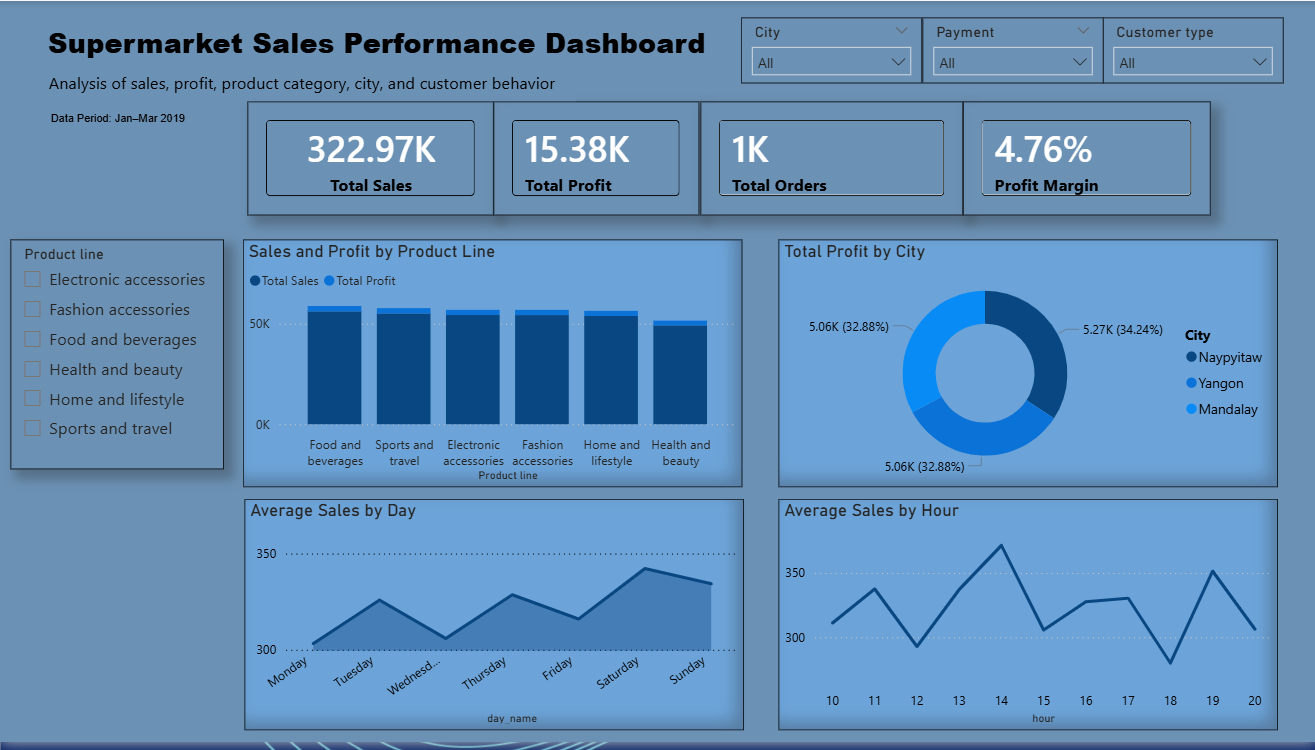

The page's visual inventory and layout, read from the dashboard file:
{"tool":"powerbi","page":{"name":"Sales Overview","canvas":[1280,720],"ordinal":0},"visuals":[{"type":"cardVisual","fields":{"Data":["clean_data.Total Sales"]},"box":[240.5,97.7,239.1,110.8],"z":0},{"type":"slicer","fields":{"Values":["clean_data.City"]},"box":[720,16,176,64],"z":1000},{"type":"cardVisual","fields":{"Data":["clean_data.Total Profit"]},"box":[479.6,97.7,199.7,110.8],"z":2000},{"type":"cardVisual","fields":{"Data":["clean_data.Total Orders"]},"box":[680.8,97.7,255.1,110.8],"z":3000},{"type":"cardVisual","fields":{"Data":["clean_data.Profit Margin"]},"box":[935.9,97.7,240.5,110.8],"z":4000},{"type":"slicer","fields":{"Values":["clean_data.Product line"]},"box":[10.2,231.8,207,223.1],"z":5000},{"type":"slicer","fields":{"Values":["clean_data.Customer type"]},"box":[1072,16,176,64],"z":6000},{"type":"slicer","fields":{"Values":["clean_data.Payment"]},"box":[896,16,176,64],"z":7000},{"type":"columnChart","title":"Sales and Profit by Product Line","fields":{"Category":["clean_data.Product line"],"Y":["clean_data.Total Sales","clean_data.Total Profit"]},"box":[236.2,231.8,485.5,240.5],"z":8000},{"type":"donutChart","fields":{"Category":["clean_data.City"],"Y":["clean_data.Total Profit"]},"box":[756.6,231.8,485.5,240.5],"z":9000},{"type":"areaChart","title":"Average Sales by Day","fields":{"Category":["clean_data.day_name"],"Y":["clean_data.Average Sales"]},"box":[237.6,484,485.5,224.5],"z":10000},{"type":"lineChart","title":"Average Sales by Hour","fields":{"Category":["clean_data.hour"],"Y":["clean_data.Average Sales"]},"box":[756.6,484,485.5,224.5],"z":11000},{"type":"textbox","box":[32.1,16,672.1,48.1],"z":12000},{"type":"textbox","box":[42.3,97.7,144.3,35],"z":14001},{"type":"textbox","box":[42.3,62.7,517.5,35],"z":14002}]}

Visuals, with their boxes in screenshot pixels (x1, y1, x2, y2), scaled from the page's 1280x720 canvas onto the 1315x750 screenshot:
cardVisual - clean_data.Total Sales: 247, 102, 493, 217
slicer - clean_data.City: 740, 17, 920, 83
cardVisual - clean_data.Total Profit: 493, 102, 698, 217
cardVisual - clean_data.Total Orders: 699, 102, 961, 217
cardVisual - clean_data.Profit Margin: 961, 102, 1209, 217
slicer - clean_data.Product line: 10, 241, 223, 474
slicer - clean_data.Customer type: 1101, 17, 1282, 83
slicer - clean_data.Payment: 920, 17, 1101, 83
"Sales and Profit by Product Line" columnChart: 243, 241, 741, 492
donutChart - clean_data.City x clean_data.Total Profit: 777, 241, 1276, 492
"Average Sales by Day" areaChart: 244, 504, 743, 738
"Average Sales by Hour" lineChart: 777, 504, 1276, 738
textbox: 33, 17, 723, 67
textbox: 43, 102, 192, 138
textbox: 43, 65, 575, 102
